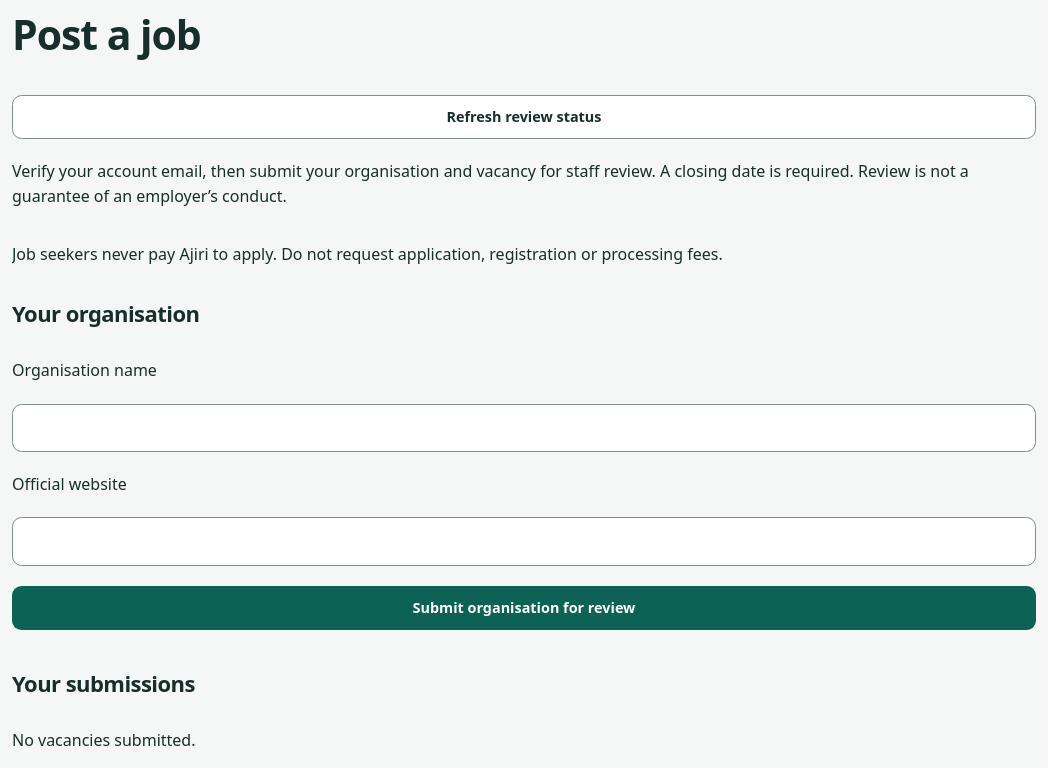
Test case: submits an organisation for review without claiming publication or payment
expect the text "No vacancies submitted." is shown: met, box [12,729,196,751]
Type "Synthetic team" into the field labelled "Organisation name". click: {"x": 524, "y": 428}
box: [12,404,1036,452]
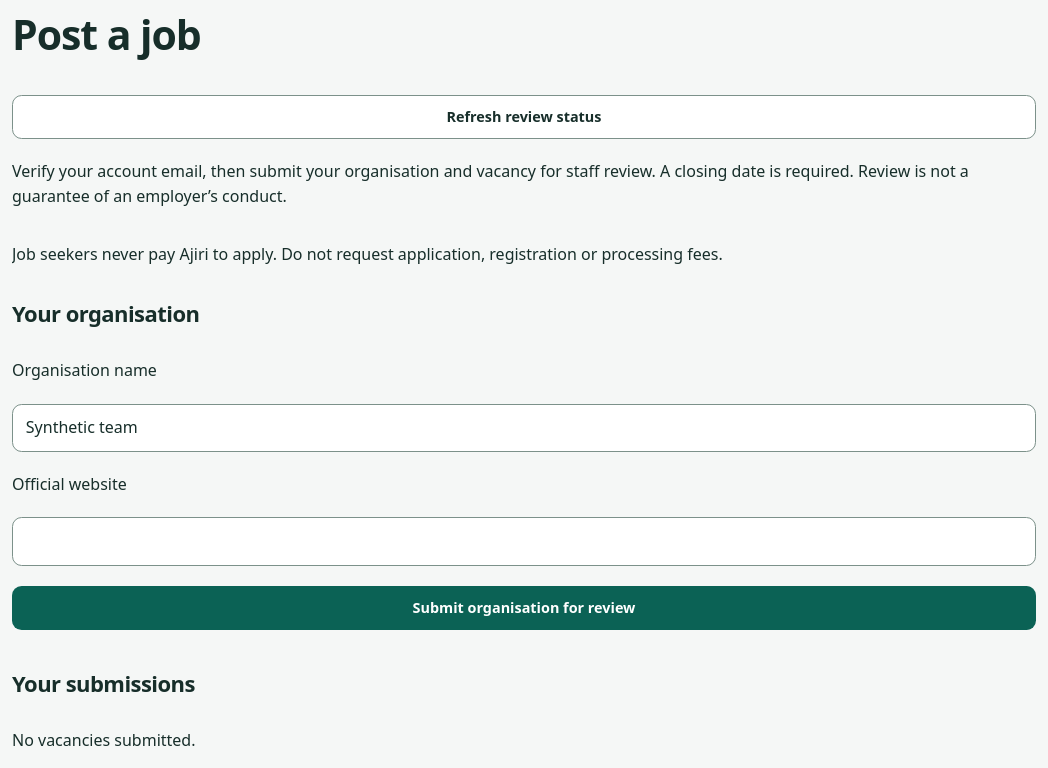
Type "https://example.invalid" into the field labelled "Official website". click: {"x": 524, "y": 542}
box: [12,518,1036,566]
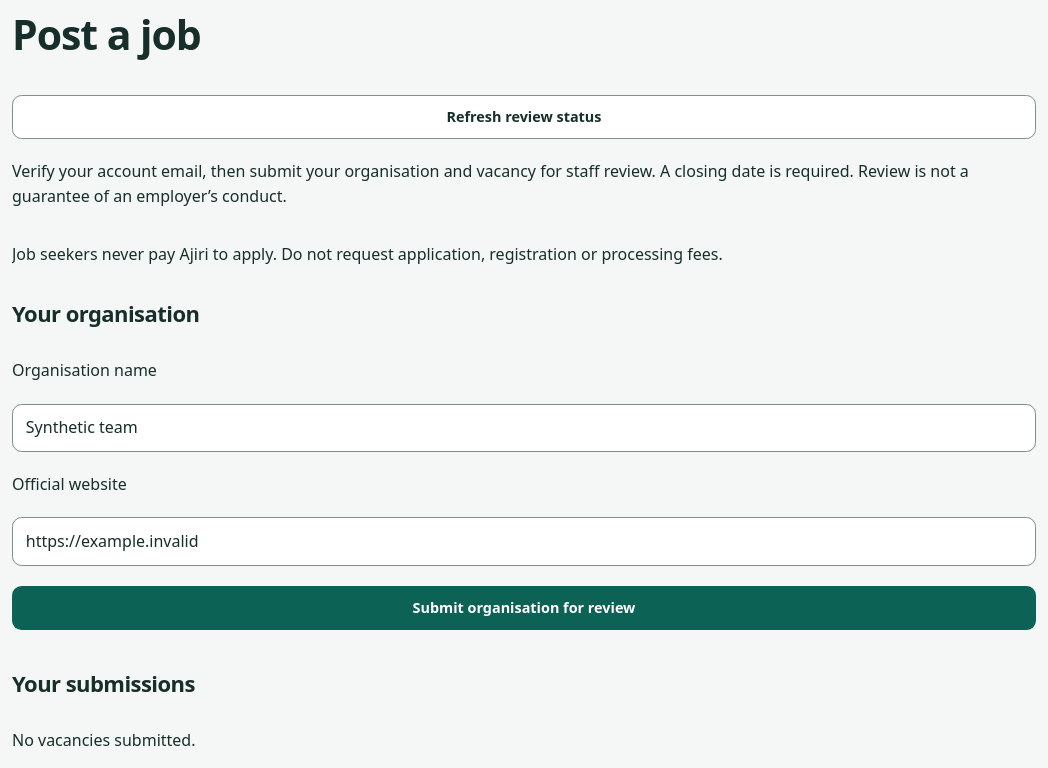
Click the button "Submit organisation for review". click: {"x": 524, "y": 608}
box: [12,586,1036,630]
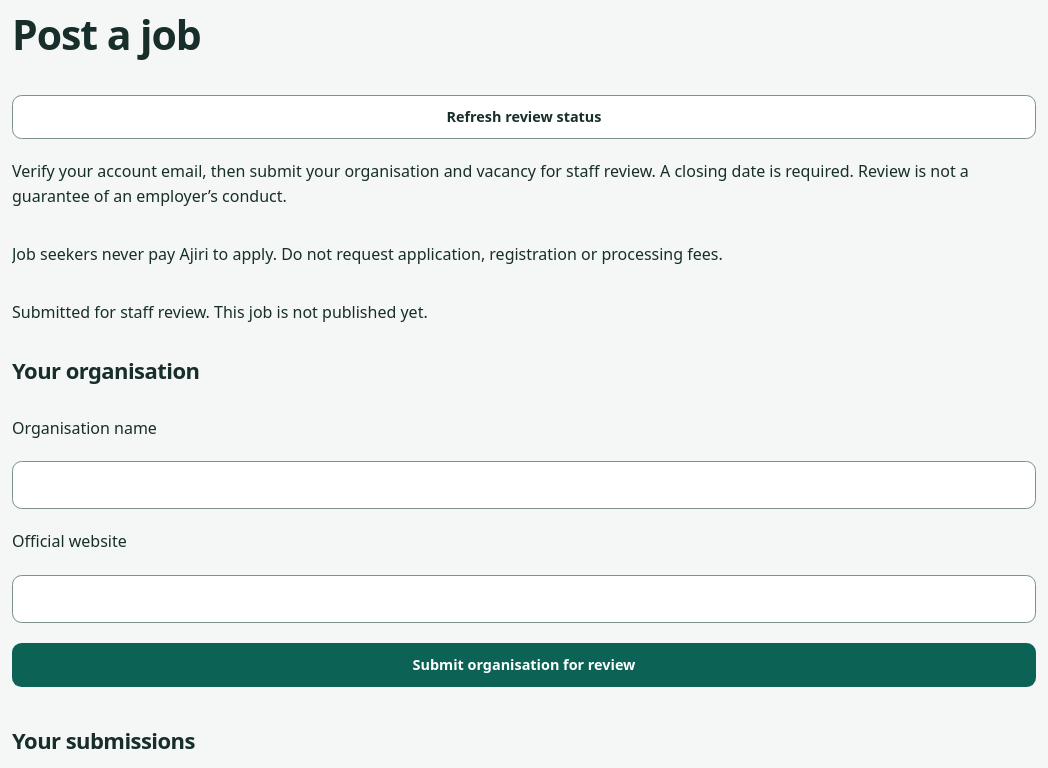
expect the text "Job seekers never pay" is shown: met, box [12,243,723,265]
expect the message shows "not published yet": met, box [12,300,428,322]
